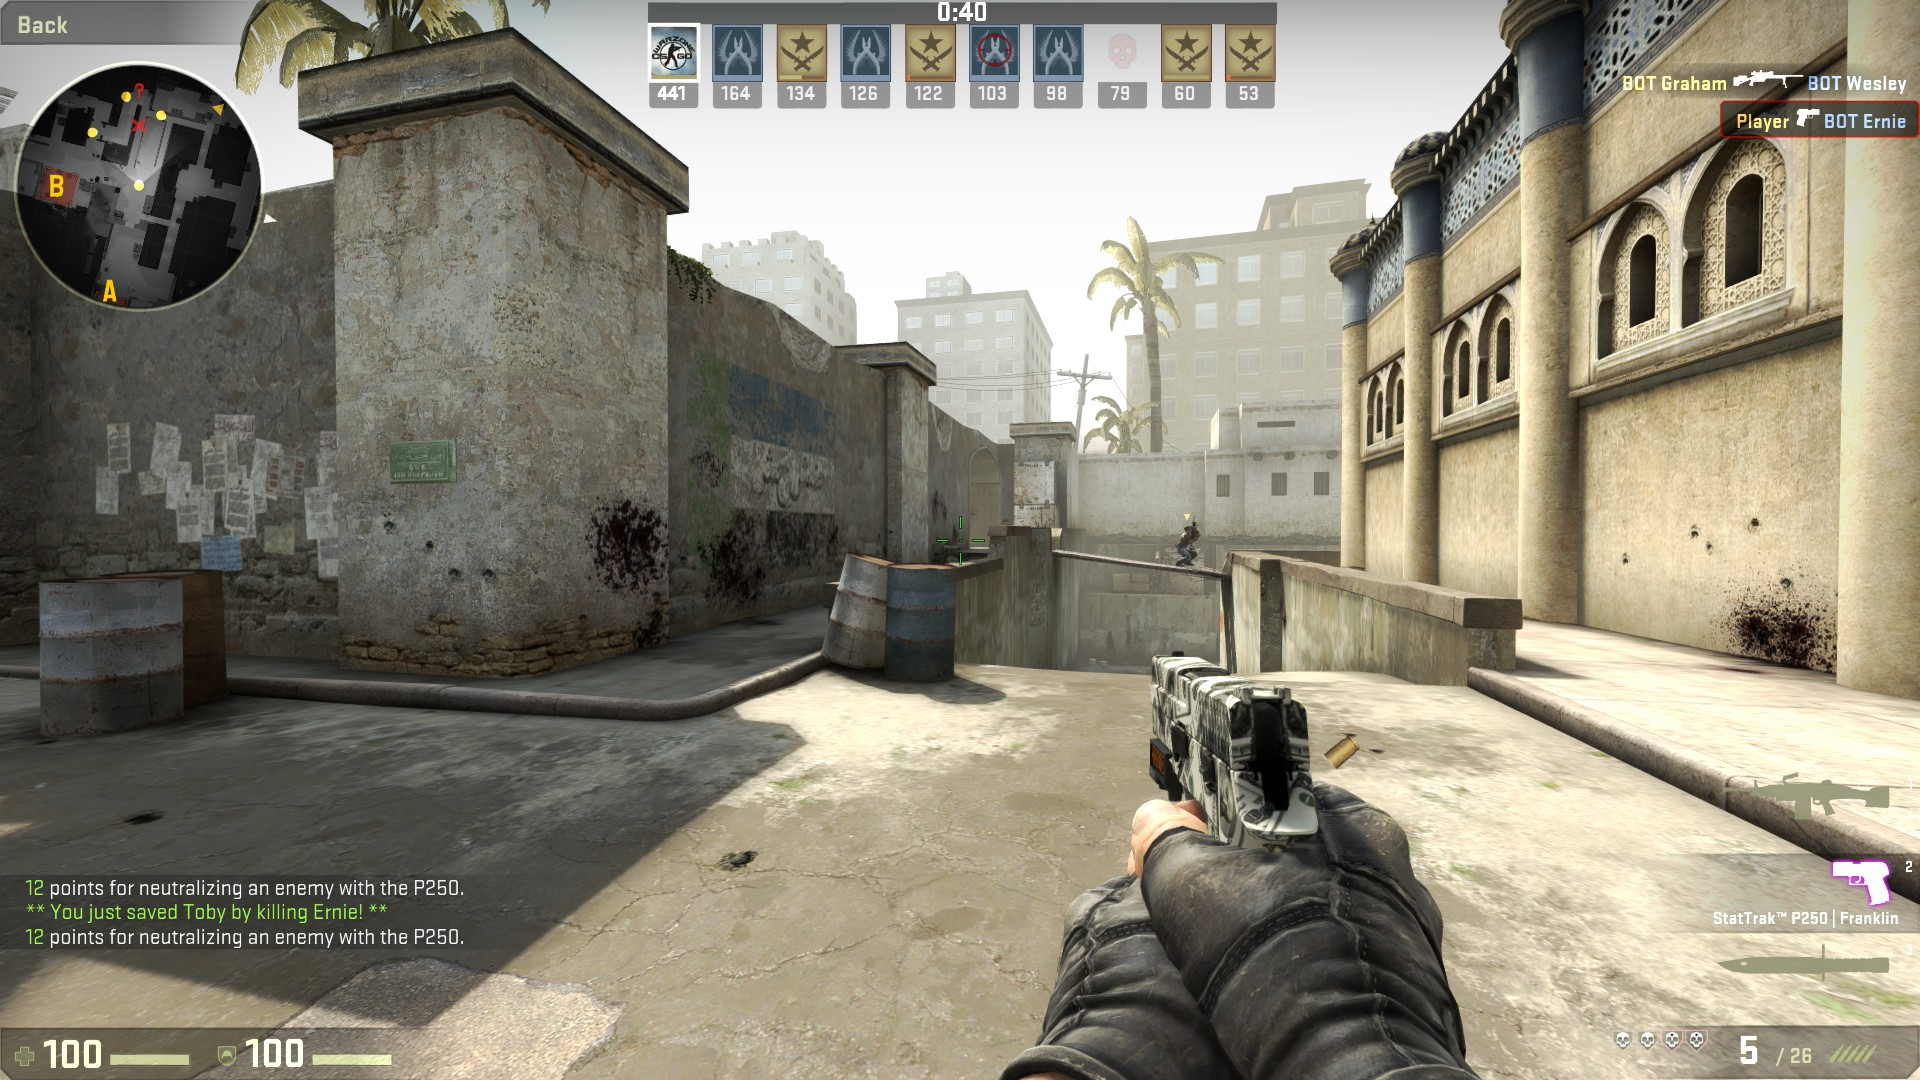t: (1174, 524, 1201, 567)
th: (1183, 525, 1193, 531)
